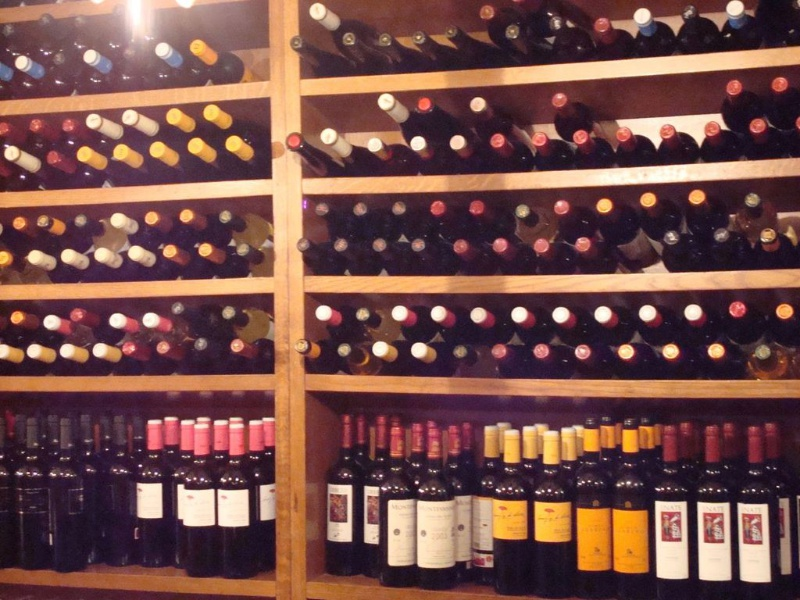wine: (284, 1, 800, 379), (1, 3, 272, 373), (315, 394, 791, 600), (1, 404, 276, 575)
